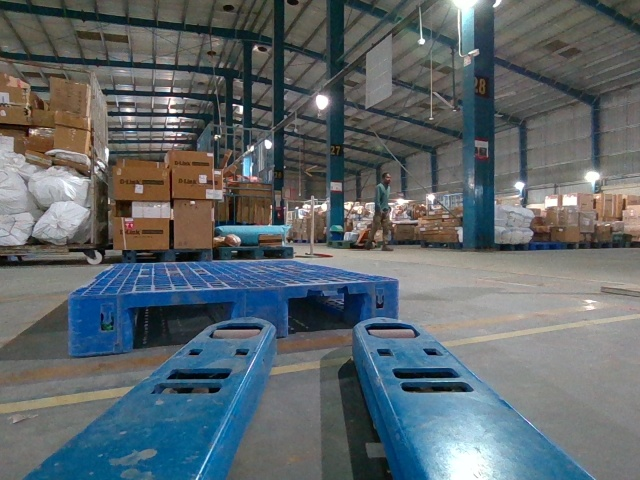block: (67, 291, 133, 357), (224, 288, 291, 341), (358, 278, 399, 324)
front: (68, 278, 398, 352)
hole pallet: (132, 300, 233, 346), (287, 294, 369, 335)
